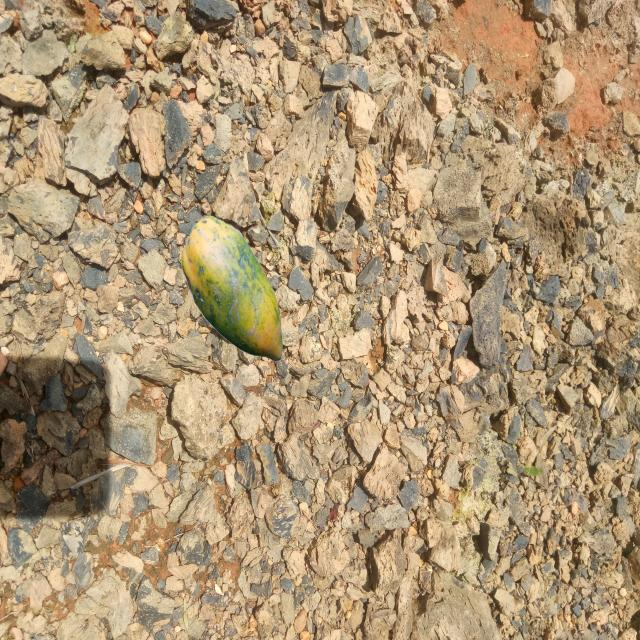Pepaya rippen: (168, 200, 288, 373)
